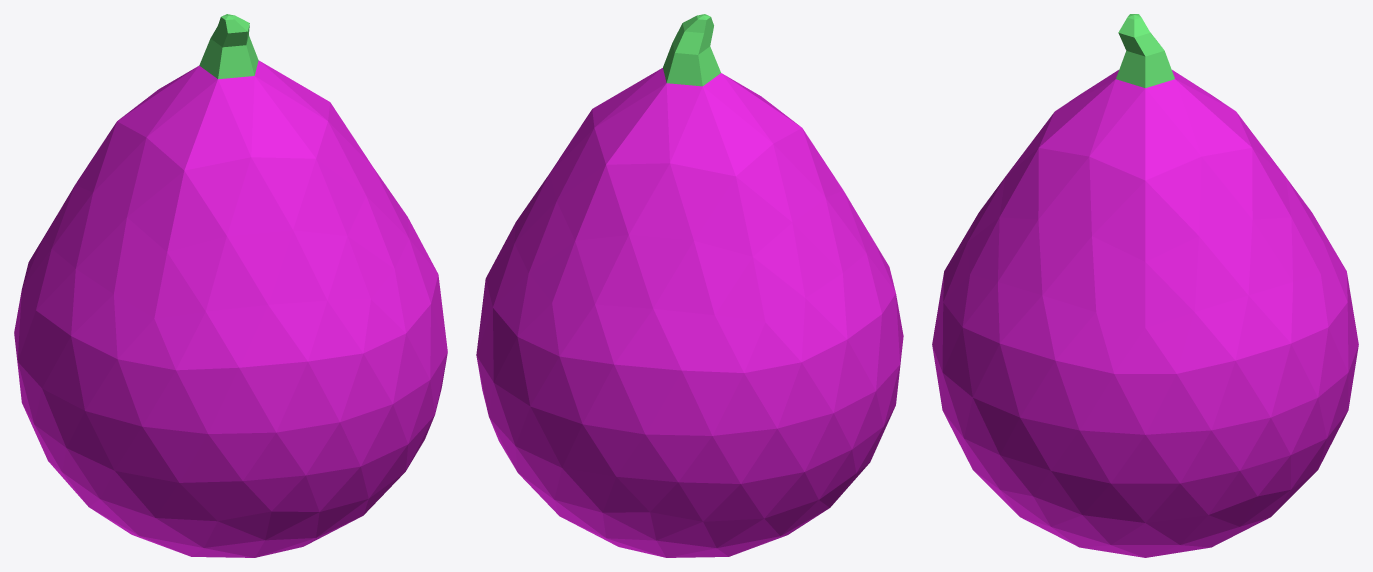
File: figProject.glb
3 views of the same model, side by side, from view 1: azimuth 30°, elevation 25°; view 2: azimuth 150°, elevation 25°; view 3: azimuth 270°, elevation 25° (orthographic). The views are drawn at different scales.
Visible parts, largest first — view 1: higo, tallo; view 2: higo, tallo; view 3: higo, tallo.
Boxes of the visible parts, x1,y1,x2,y2 form: higo: (14, 60, 447, 557); tallo: (199, 14, 258, 79); higo: (476, 68, 903, 557); tallo: (663, 14, 720, 86); higo: (932, 70, 1358, 557); tallo: (1116, 14, 1174, 87).
Size of the model in its own units: 2 by 2.69 by 2.
